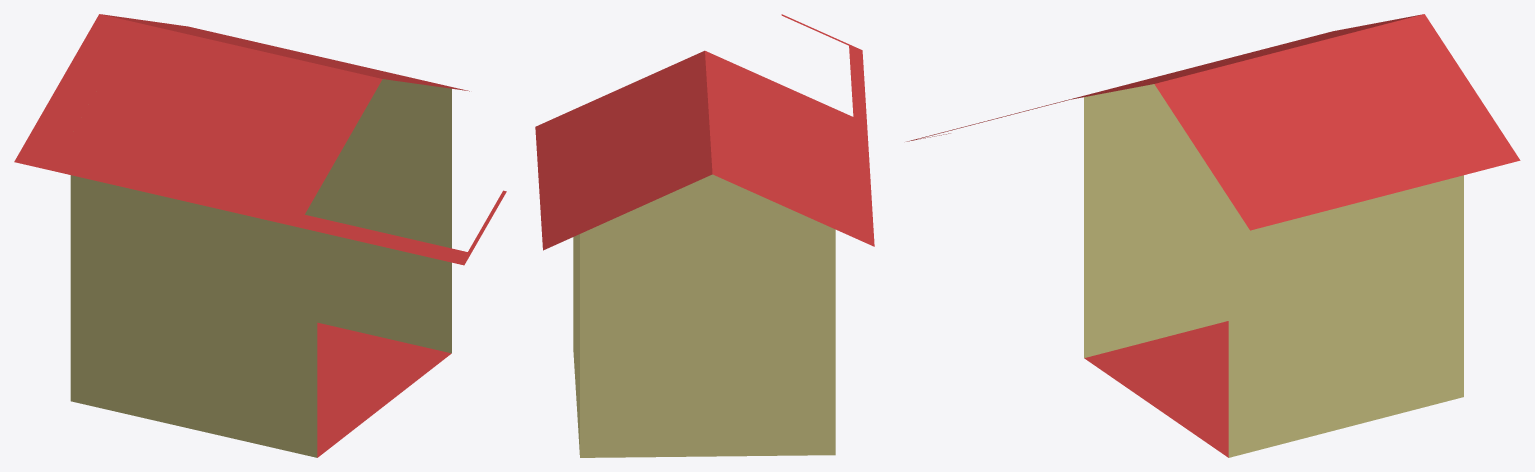
3 renders of one model, left to right at view 1: azimuth 30°, elevation 25°; view 2: azimuth 150°, elevation 25°; view 3: azimuth 270°, elevation 25°, orthographic. The views are drawn at different scales.
Size of the model in its own units: 11.46 by 14.99 by 8.65.
